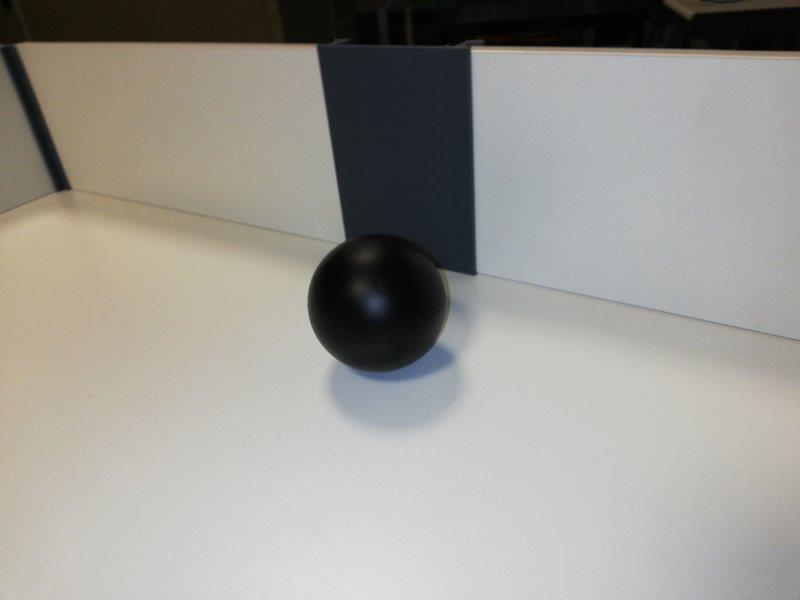nera: (307, 231, 446, 375)
